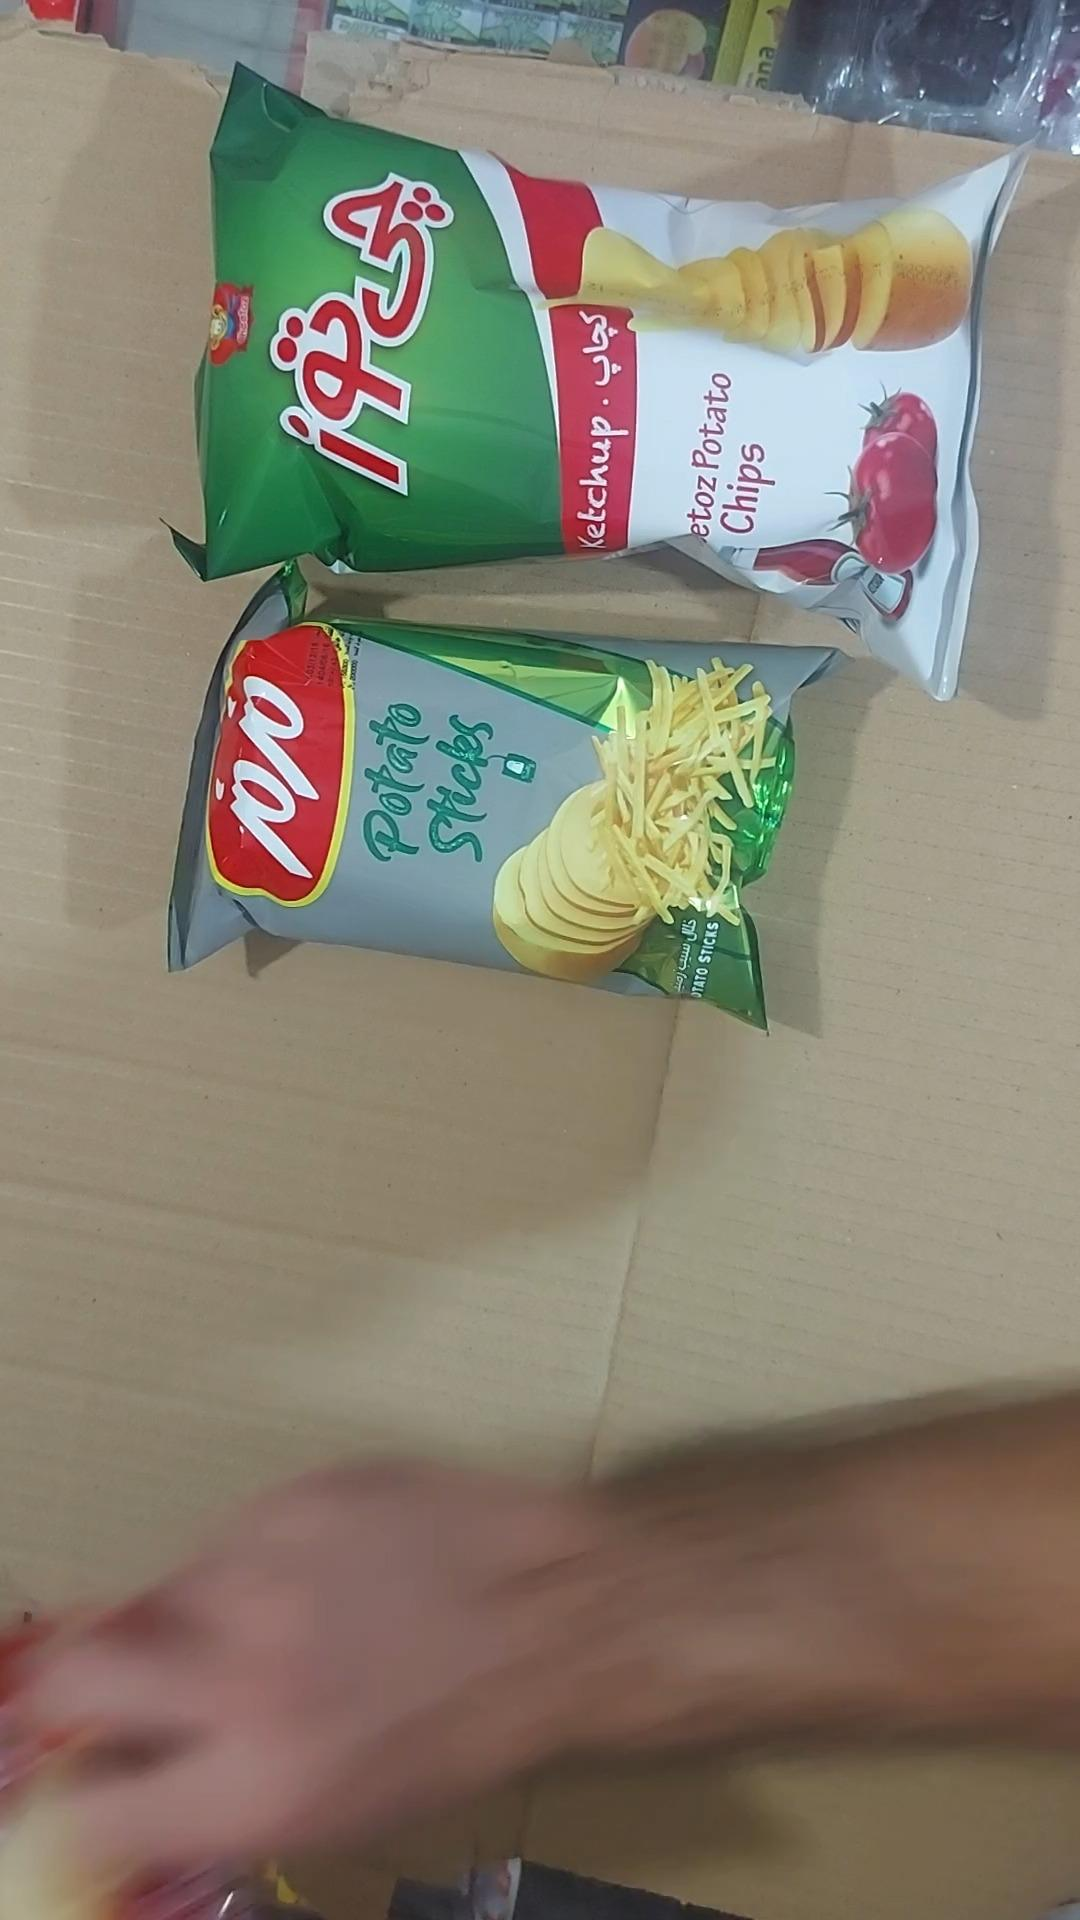Cheetoz ketchup chips: (154, 65, 1035, 705)
Maz Maz potato sticks: (166, 556, 839, 1035)
